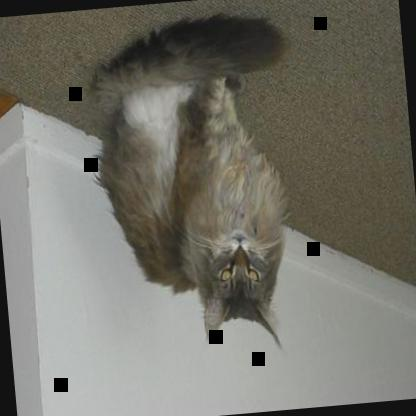cat: (84, 10, 311, 362)
